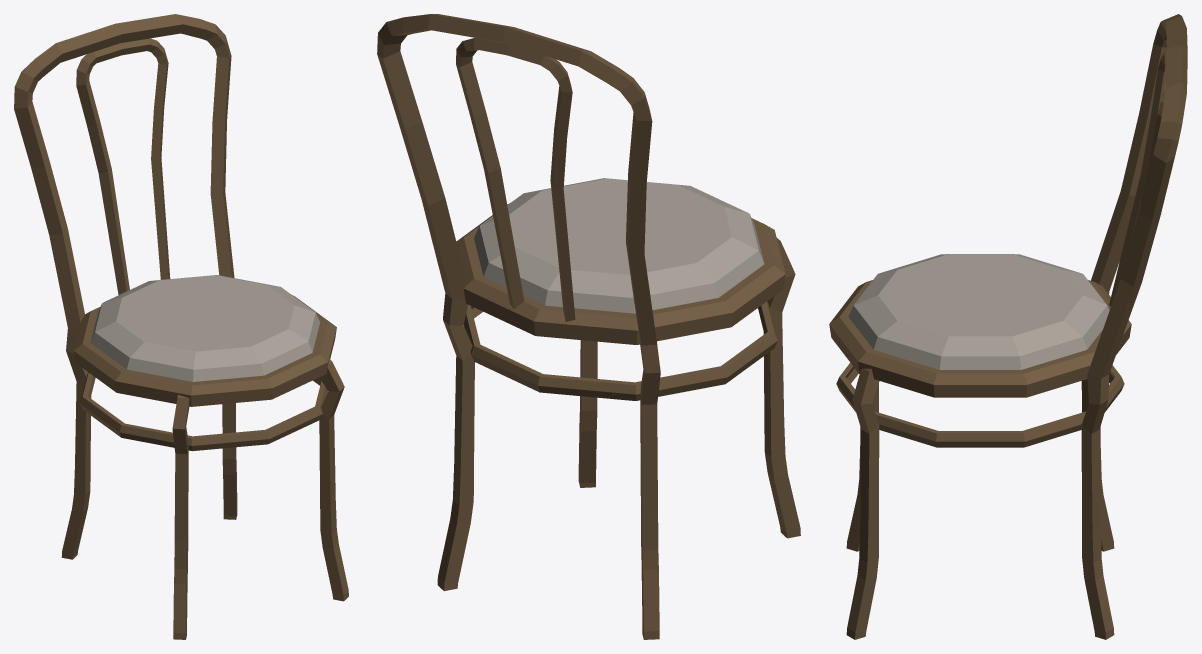
The model's file is Chair.glb.
3 views of the same model, side by side, from view 1: azimuth 30°, elevation 25°; view 2: azimuth 150°, elevation 25°; view 3: azimuth 270°, elevation 25° (orthographic). The views are drawn at different scales.
Visible parts, largest first — view 1: Chair; view 2: Chair; view 3: Chair.
Part boxes in pixels (x1,y1,x2,y2): Chair: (14,14,348,639); Chair: (377,14,800,639); Chair: (829,14,1187,639).
Bounding box in the file's own units: 0.5072 × 1.07 × 0.6321.
